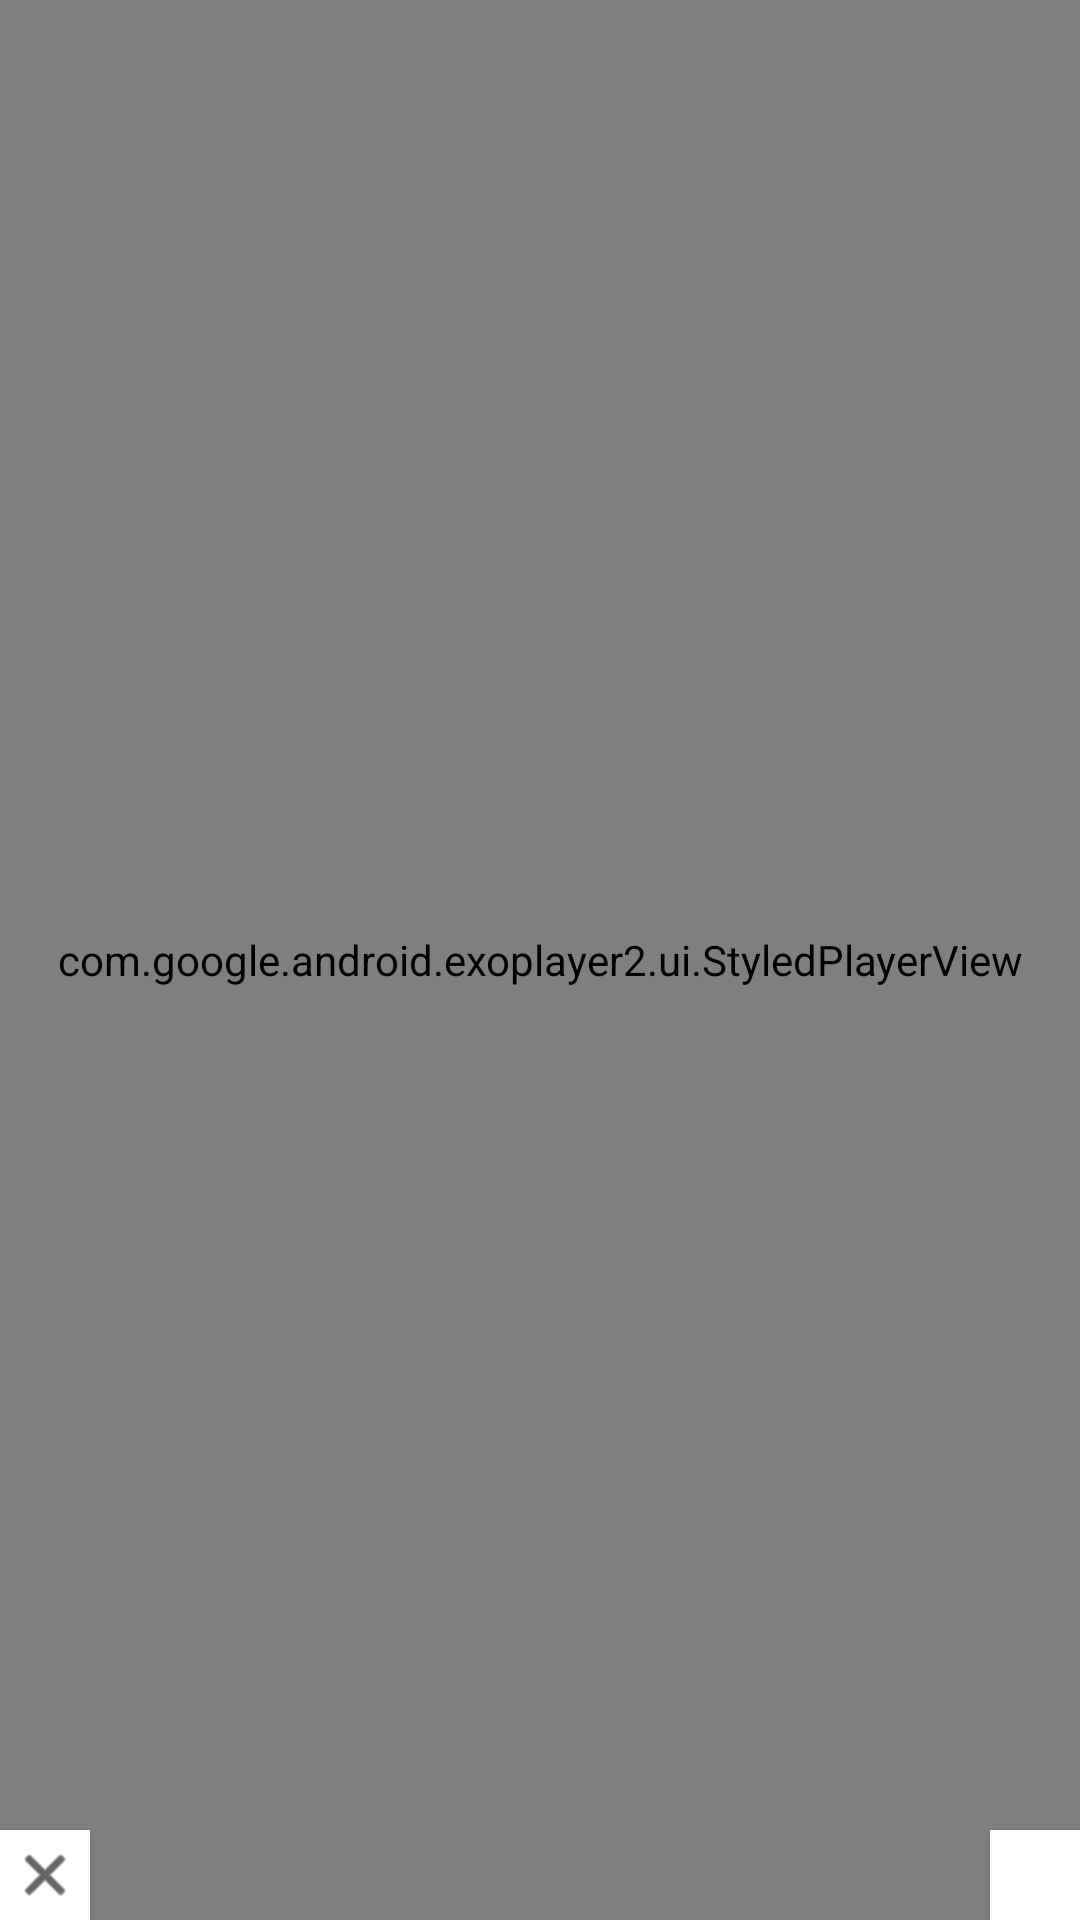

Icon click points for this 1080×1920 phone screenshot, format (x=x, y=y):
close clear cancel: (x=45, y=1875)
